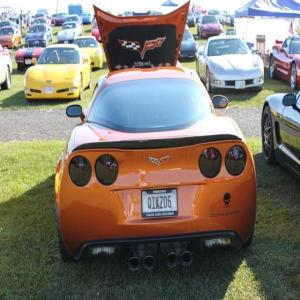Plate: (143, 189, 177, 218), (235, 80, 245, 89), (45, 87, 54, 94)
